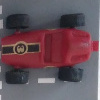rojo: (3, 15, 97, 81)
